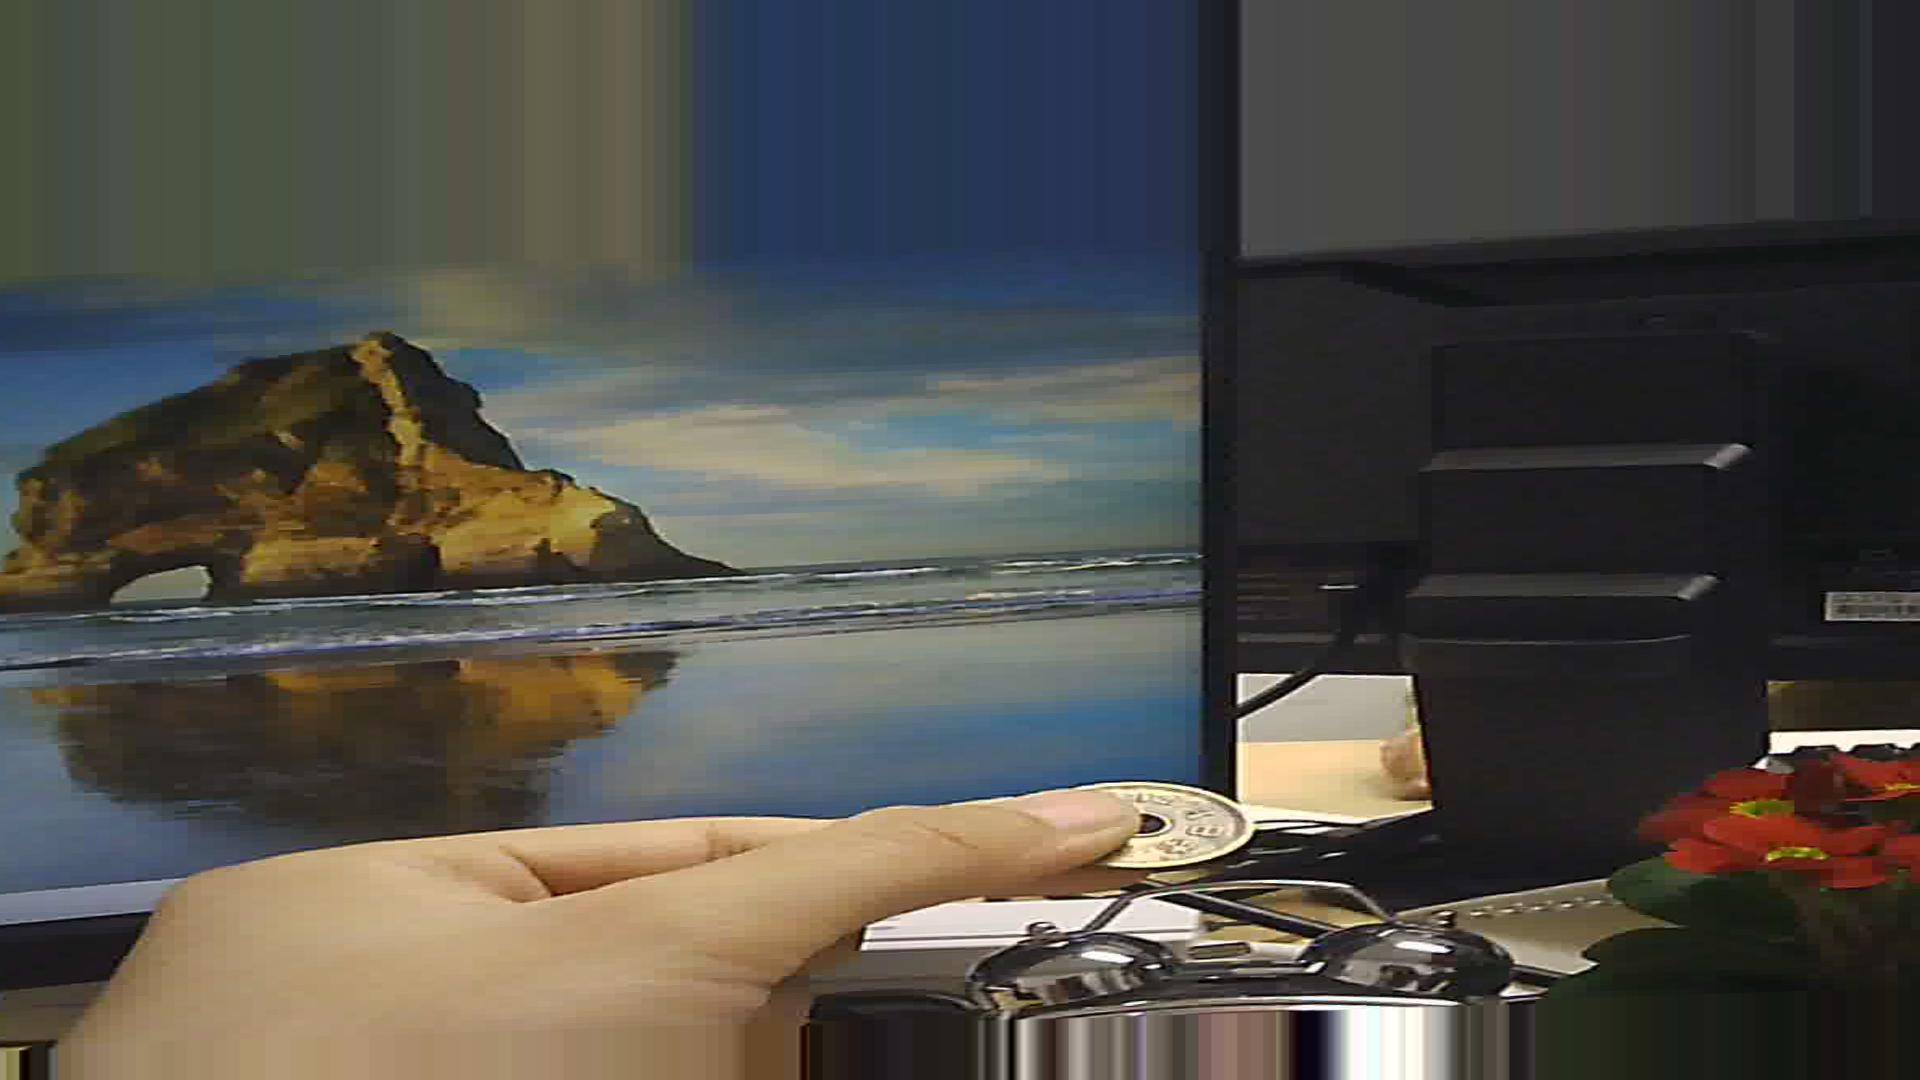5 Yen: (1056, 765, 1257, 876)
